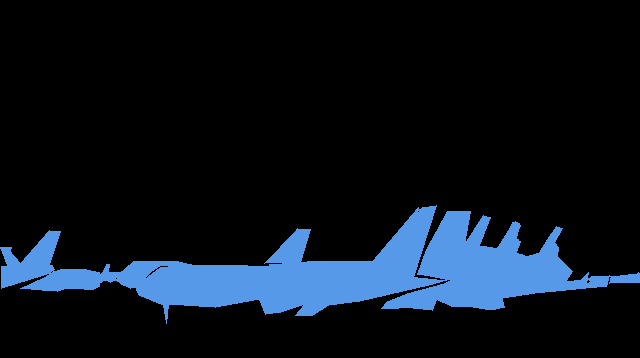Airplane: (136, 205, 447, 324), (381, 211, 609, 310), (116, 228, 310, 288), (269, 207, 419, 266), (0, 230, 60, 288), (492, 221, 530, 270), (20, 269, 100, 292), (587, 272, 640, 283), (99, 264, 120, 283)
